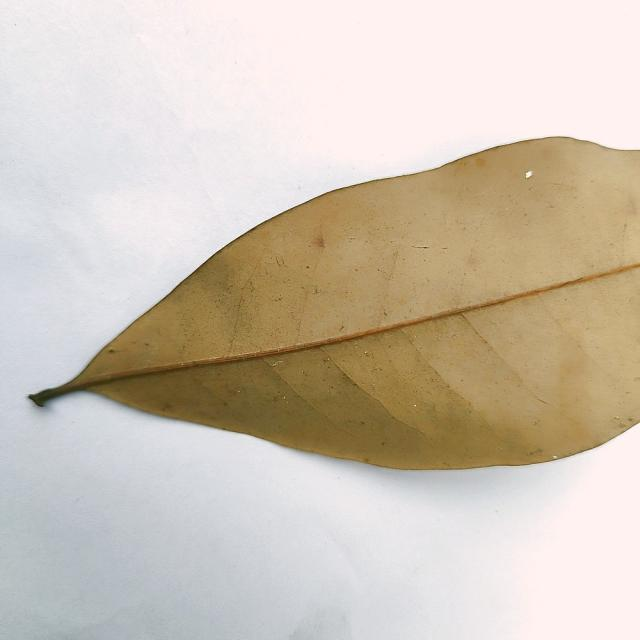Dry_Leaf-Lychee: (28, 136, 639, 474)
